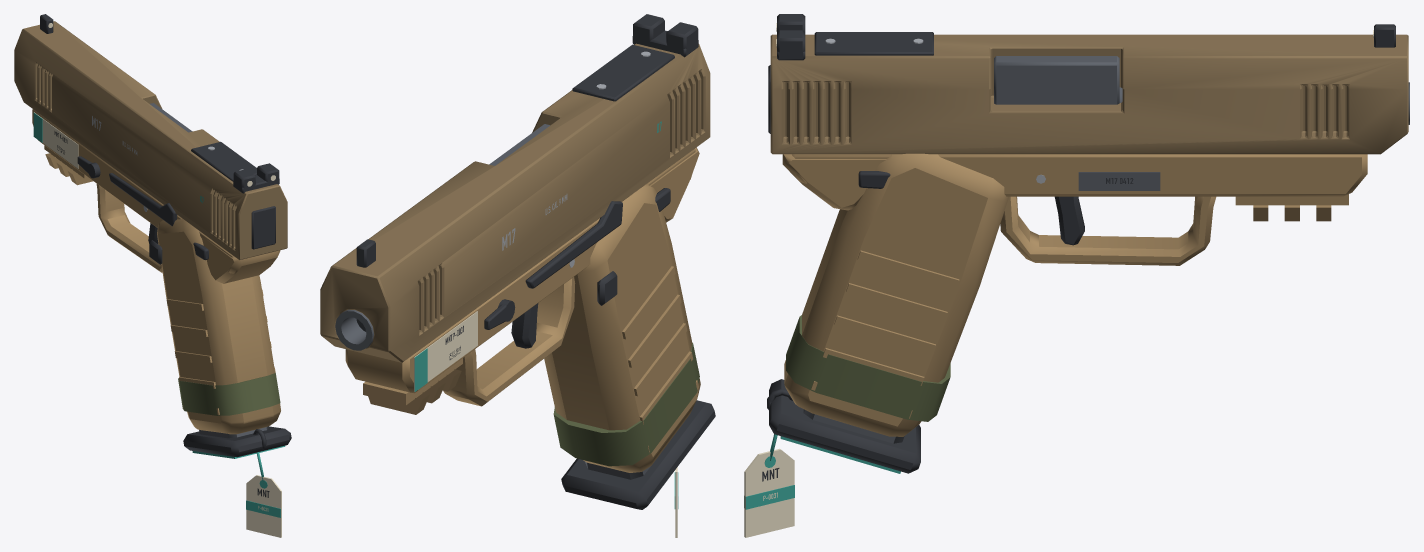
3 renders of one model, left to right at view 1: azimuth 30°, elevation 25°; view 2: azimuth 150°, elevation 25°; view 3: azimuth 270°, elevation 25°, orthographic. The views are drawn at different scales.
Visible parts, largest first — view 1: body, slide, mag, body_fine; view 2: slide, body, mag, body_fine, trigger; view 3: body, slide, mag, body_fine, trigger.
Part boxes in pixels (box(x1,y1,x2,y2)): body: box(32, 103, 281, 537); slide: box(14, 14, 287, 260); mag: box(183, 426, 291, 458); body_fine: box(33, 112, 280, 517); slide: box(320, 14, 710, 362); body: box(335, 124, 700, 537); mag: box(561, 400, 715, 509); body_fine: box(414, 259, 678, 508); trigger: box(511, 303, 538, 348); body: box(744, 56, 1409, 537); slide: box(768, 14, 1408, 154); mag: box(769, 379, 920, 473); body_fine: box(744, 172, 1160, 509); trigger: box(1054, 196, 1084, 245).
Size of the model in its own units: 0.0329 by 0.1776 by 0.2119.
